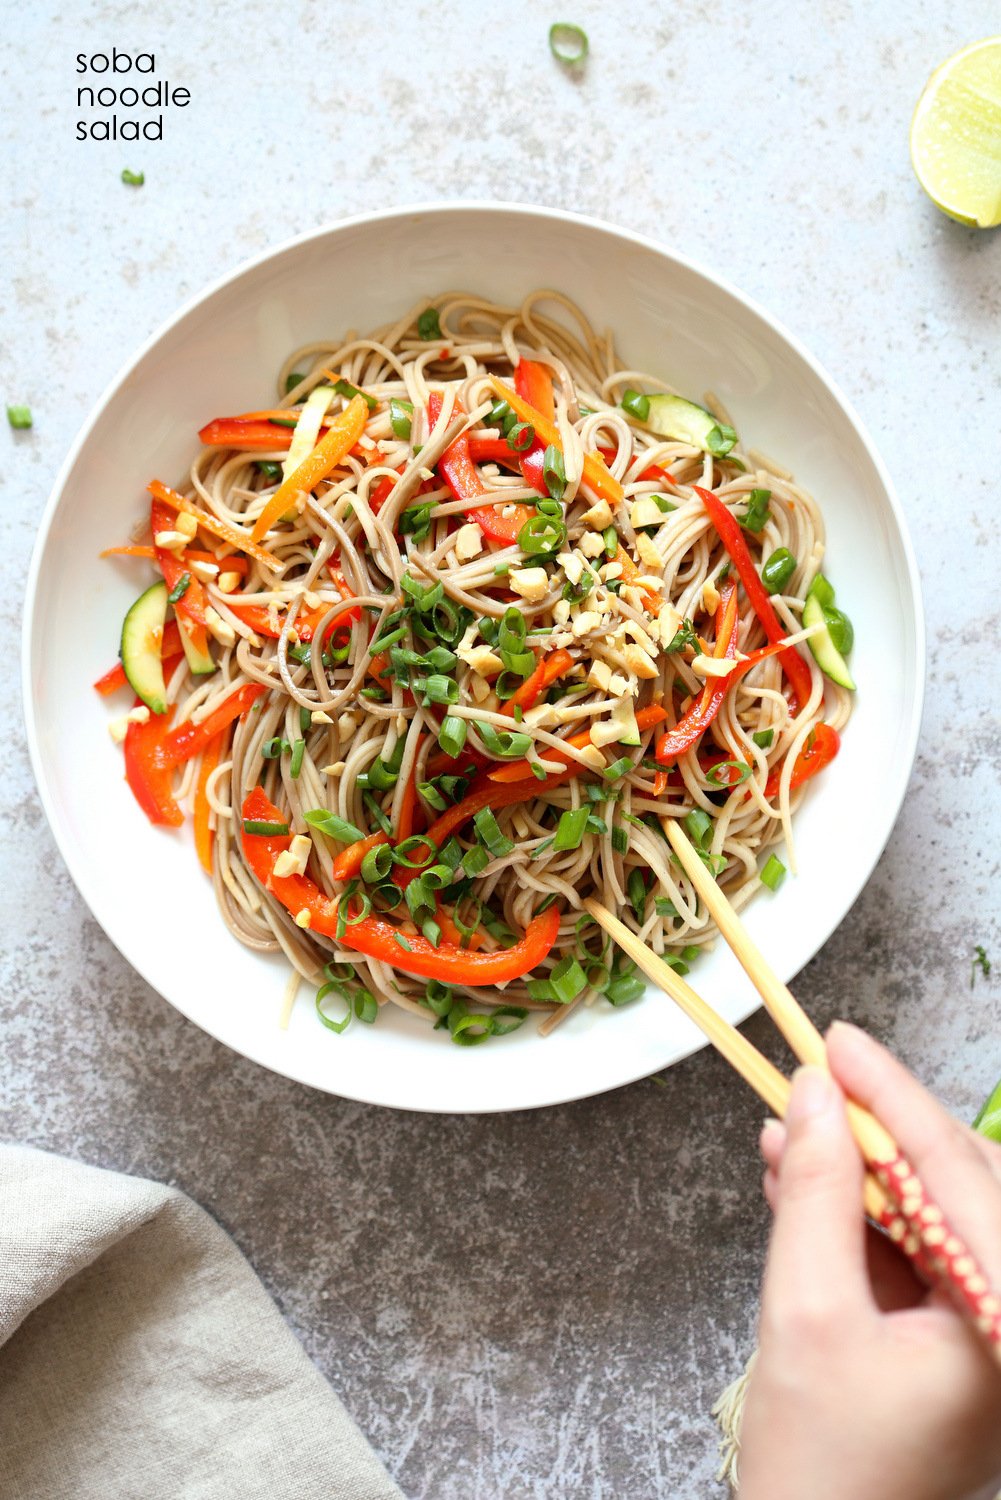Soba: (121, 296, 858, 1047)
